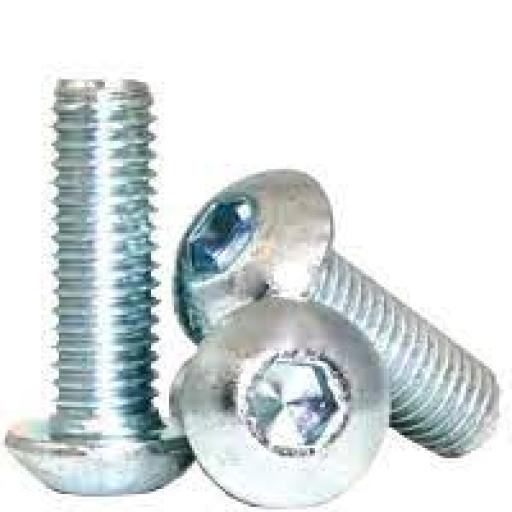Hex-Allen: (177, 298, 392, 509)
